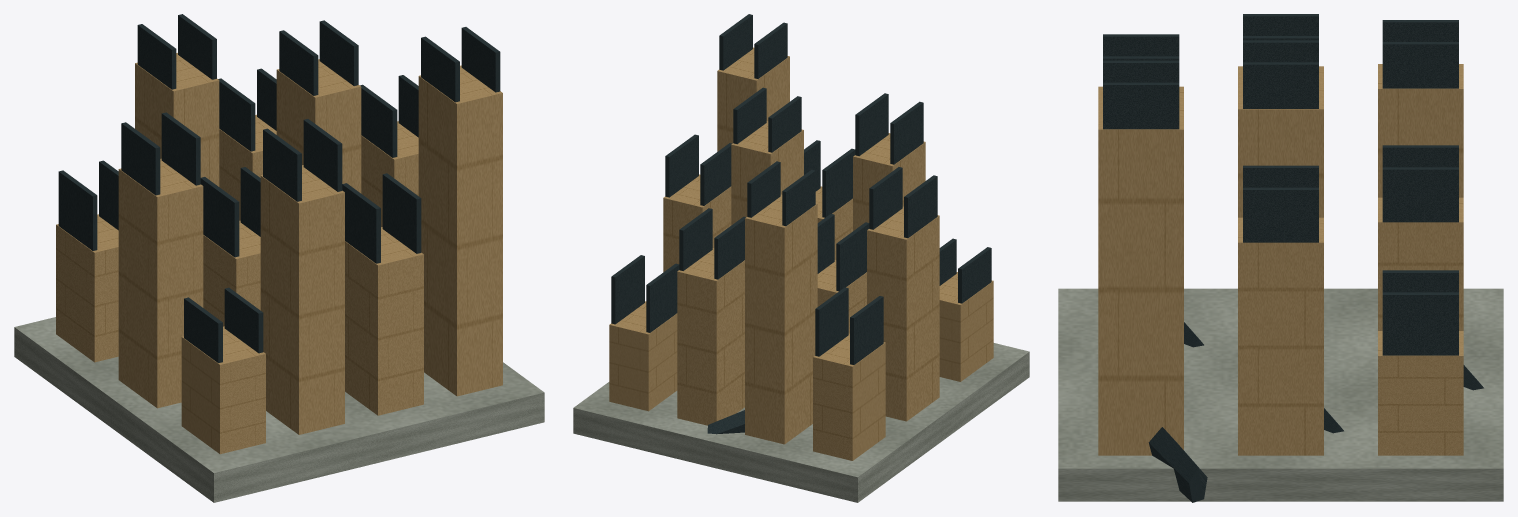
File: ruined_district_01.fbx
3 views of the same model, side by side, from view 1: azimuth 30°, elevation 25°; view 2: azimuth 150°, elevation 25°; view 3: azimuth 270°, elevation 25° (orthographic). The views are drawn at different scales.
Visible parts, largest first — view 1: ruined_district_01_LOD0; view 2: ruined_district_01_LOD0; view 3: ruined_district_01_LOD0.
Part boxes in pixels (x1,y1,x2,y2): ruined_district_01_LOD0: [14, 14, 544, 502]; ruined_district_01_LOD0: [573, 14, 1029, 502]; ruined_district_01_LOD0: [1058, 14, 1503, 502].
Size of what is drawn, in the model's own units: 1 by 1 by 1.
